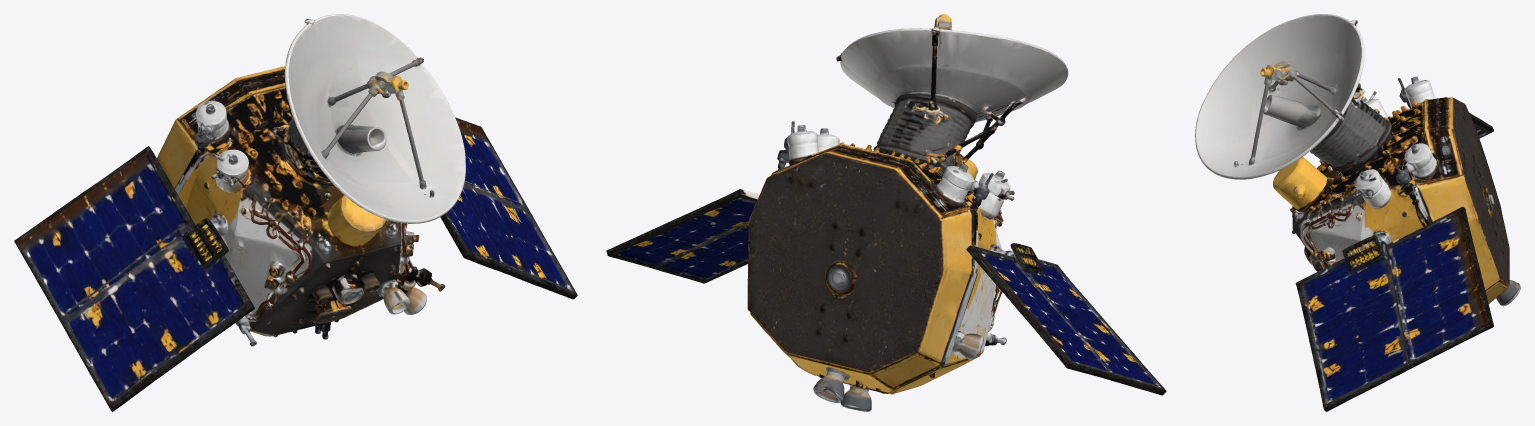
Rendered from deep-space-probe.glb.
3 renders of one model, left to right at view 1: azimuth 30°, elevation 25°; view 2: azimuth 150°, elevation 25°; view 3: azimuth 270°, elevation 25°, orthographic. The views are drawn at different scales.
Parts seen in each view (by area): view 1: geometry_0; view 2: geometry_0; view 3: geometry_0.
Boxes of the visible parts, x1=… form: geometry_0: x1=14, y1=14, x2=577, y2=411; geometry_0: x1=606, y1=14, x2=1166, y2=411; geometry_0: x1=1195, y1=14, x2=1520, y2=411.
Size of the model in its own units: 2 by 1.42 by 1.39.
Materials: 1 (1 with a texture image).
